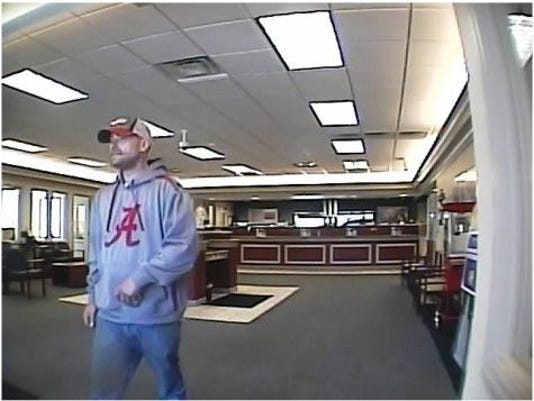Person: (78, 113, 209, 398)
